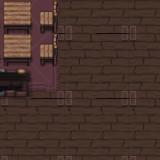Hide: (0, 67, 34, 99)
Obstacle: (0, 34, 33, 67), (33, 0, 65, 34), (1, 0, 33, 34), (33, 34, 64, 67)
